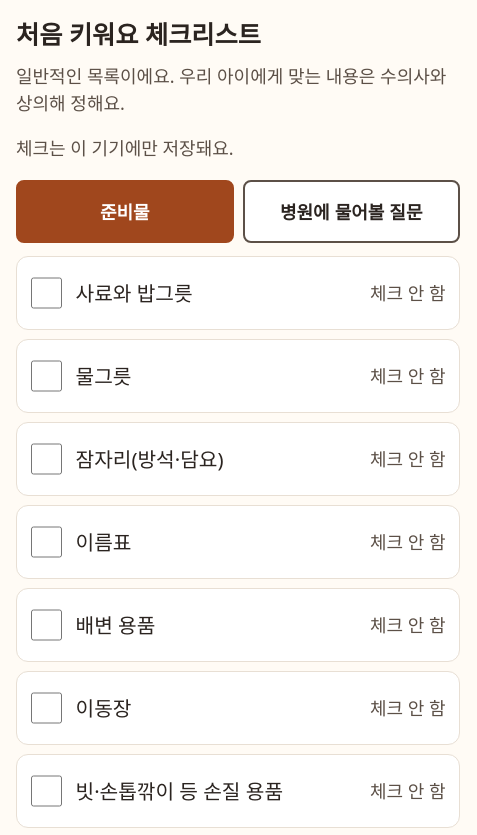
Test: /checklist 화면 › 저장소를 읽지 못해도 화면의 이전 체크는 유지된다
What coordinates should you click on to do the following:
click the text "물그릇"
I would click on:
 (103, 376)
Its box is [76, 362, 131, 390].
(page scrolled)
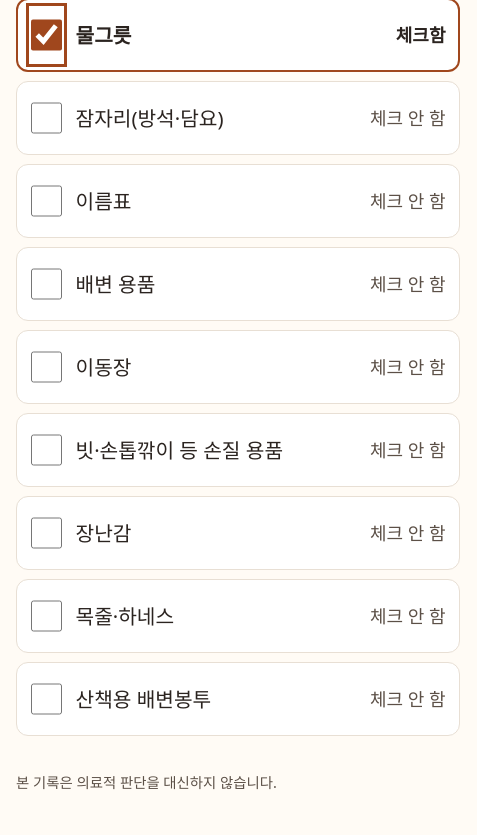
What coordinates should you click on to do the following:
click the text "장난감"
I would click on:
 (103, 533)
Its box is [76, 519, 131, 547].
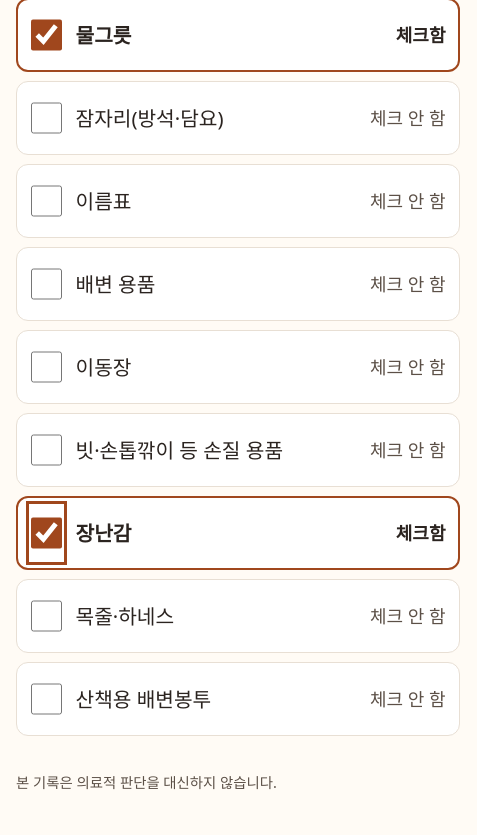
Expected: the checkbox labelled "물그릇" is checked, [30, 8, 62, 62]
Expected: the checkbox labelled "장난감" is checked, [30, 506, 62, 560]
